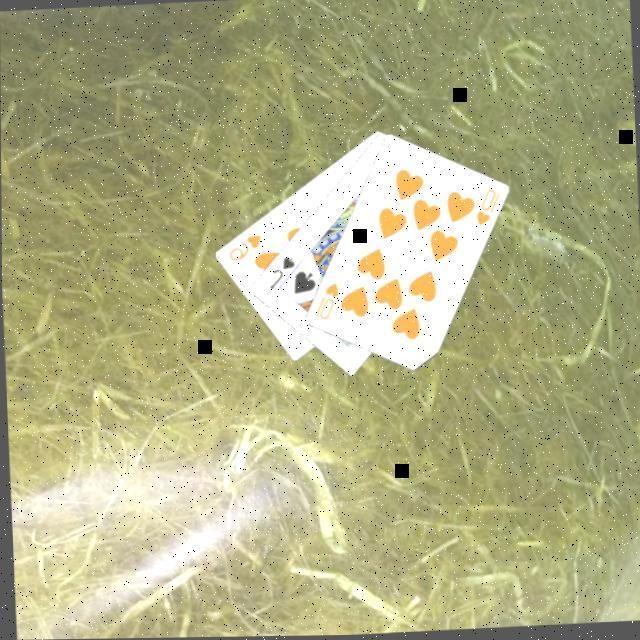10H: (310, 282, 342, 326), (472, 188, 504, 232)
9H: (224, 233, 265, 266)
JS: (264, 256, 298, 294)
